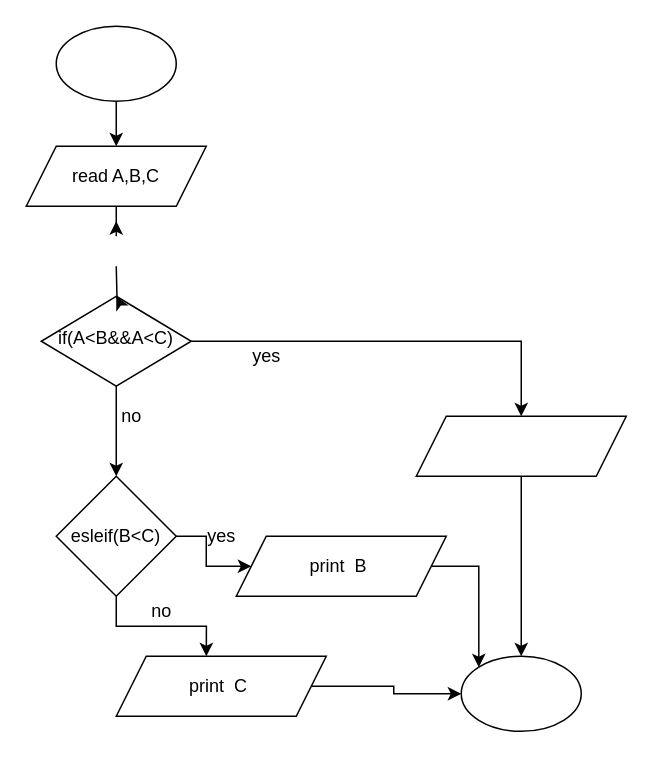
The diagram is 653 pixels wide and 758 high, and some of its shapes have lost their labels. Here are the shapes that lost their labels. From the top down, the centre of each, then its label:
(115,63): START
(520,445): print A
(520,693): STOP
